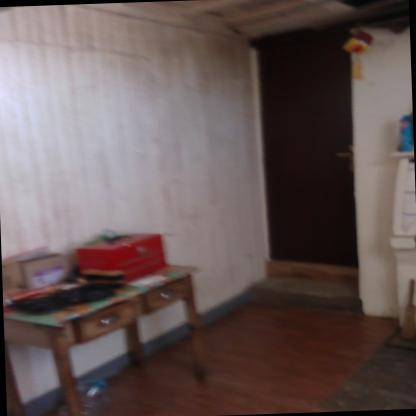closed: (244, 13, 372, 284)
